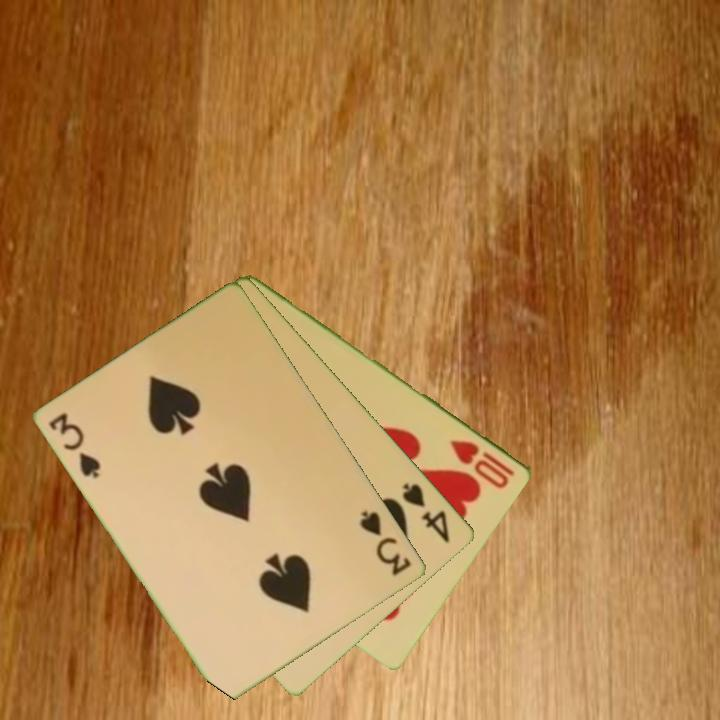10h: (447, 436, 519, 491)
3s: (46, 409, 105, 482), (356, 507, 415, 579)
4s: (399, 479, 454, 546)
